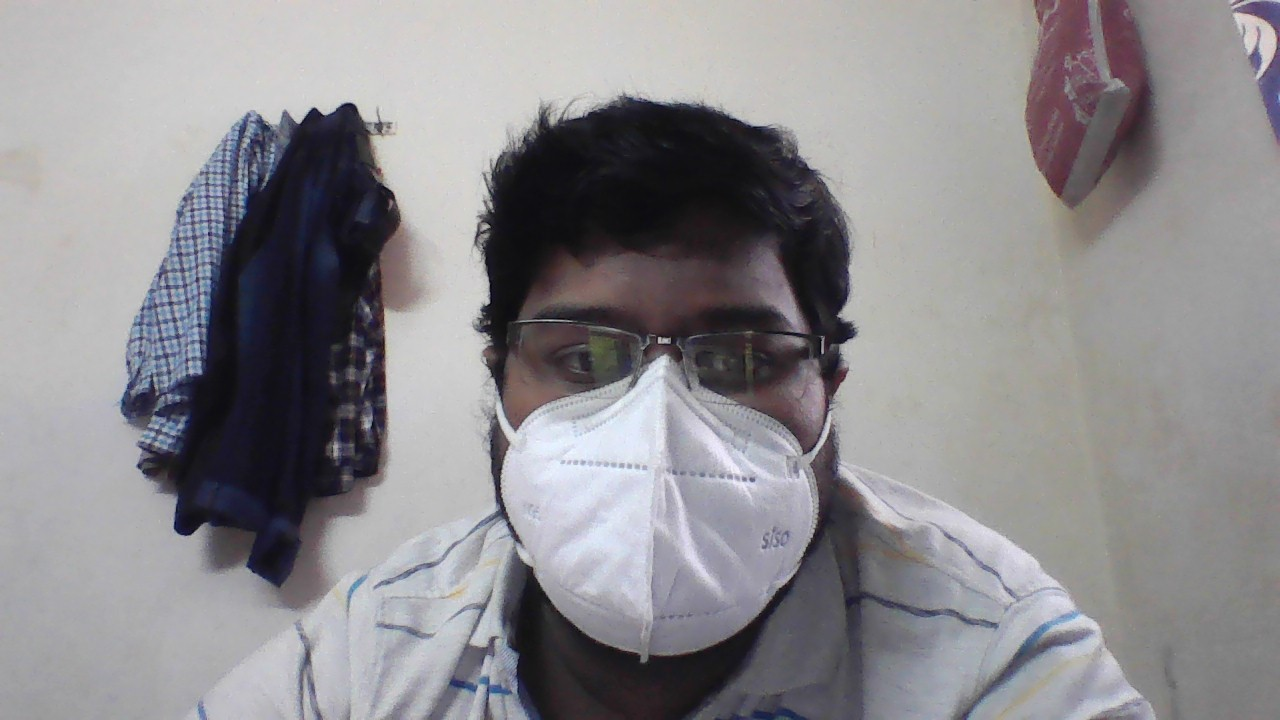Mask: (476, 362, 854, 656)
